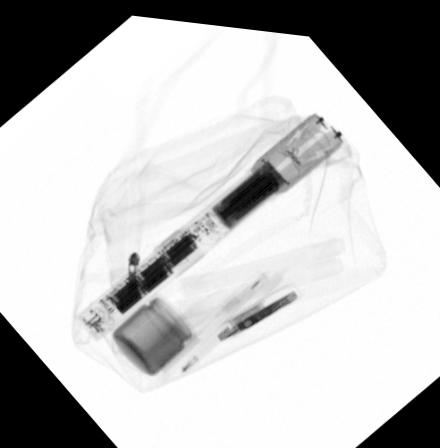Baton: (72, 100, 349, 341)
